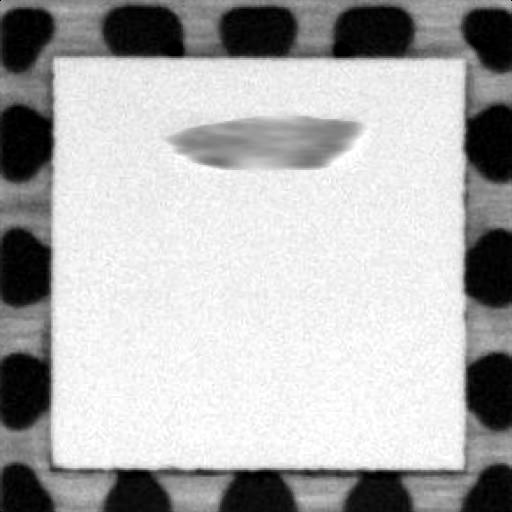DIE_INK: (162, 109, 361, 172)
